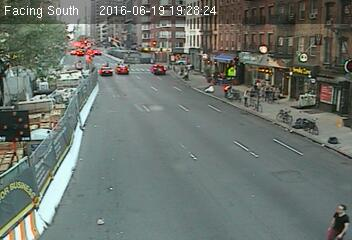neg: (295, 113, 323, 151), (324, 129, 343, 155), (277, 103, 293, 125)
pos: (326, 200, 351, 238)
